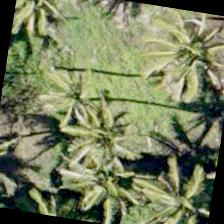Kelapa_Sawit: (28, 83, 130, 186), (139, 5, 223, 109), (58, 144, 160, 223), (124, 154, 216, 223), (9, 0, 65, 55)
